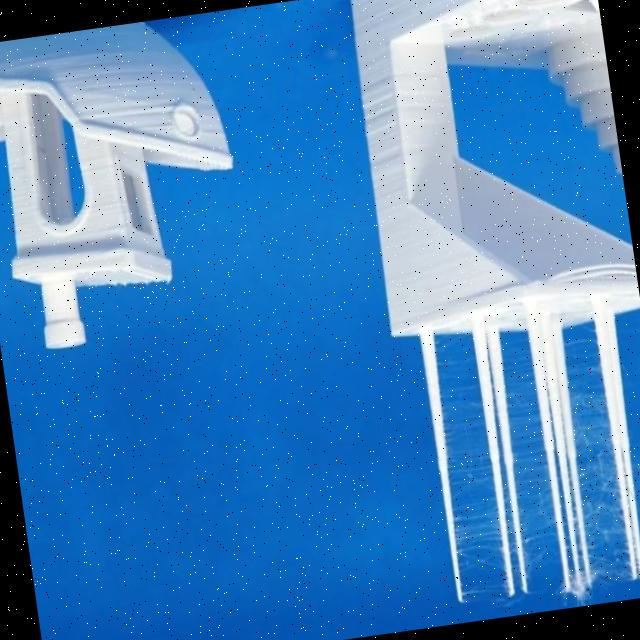stringing: (568, 377, 636, 580), (437, 391, 508, 564)
